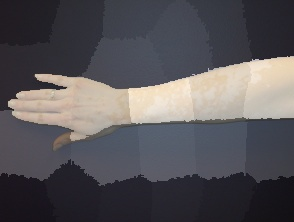vitiligo: (4, 55, 294, 156)
